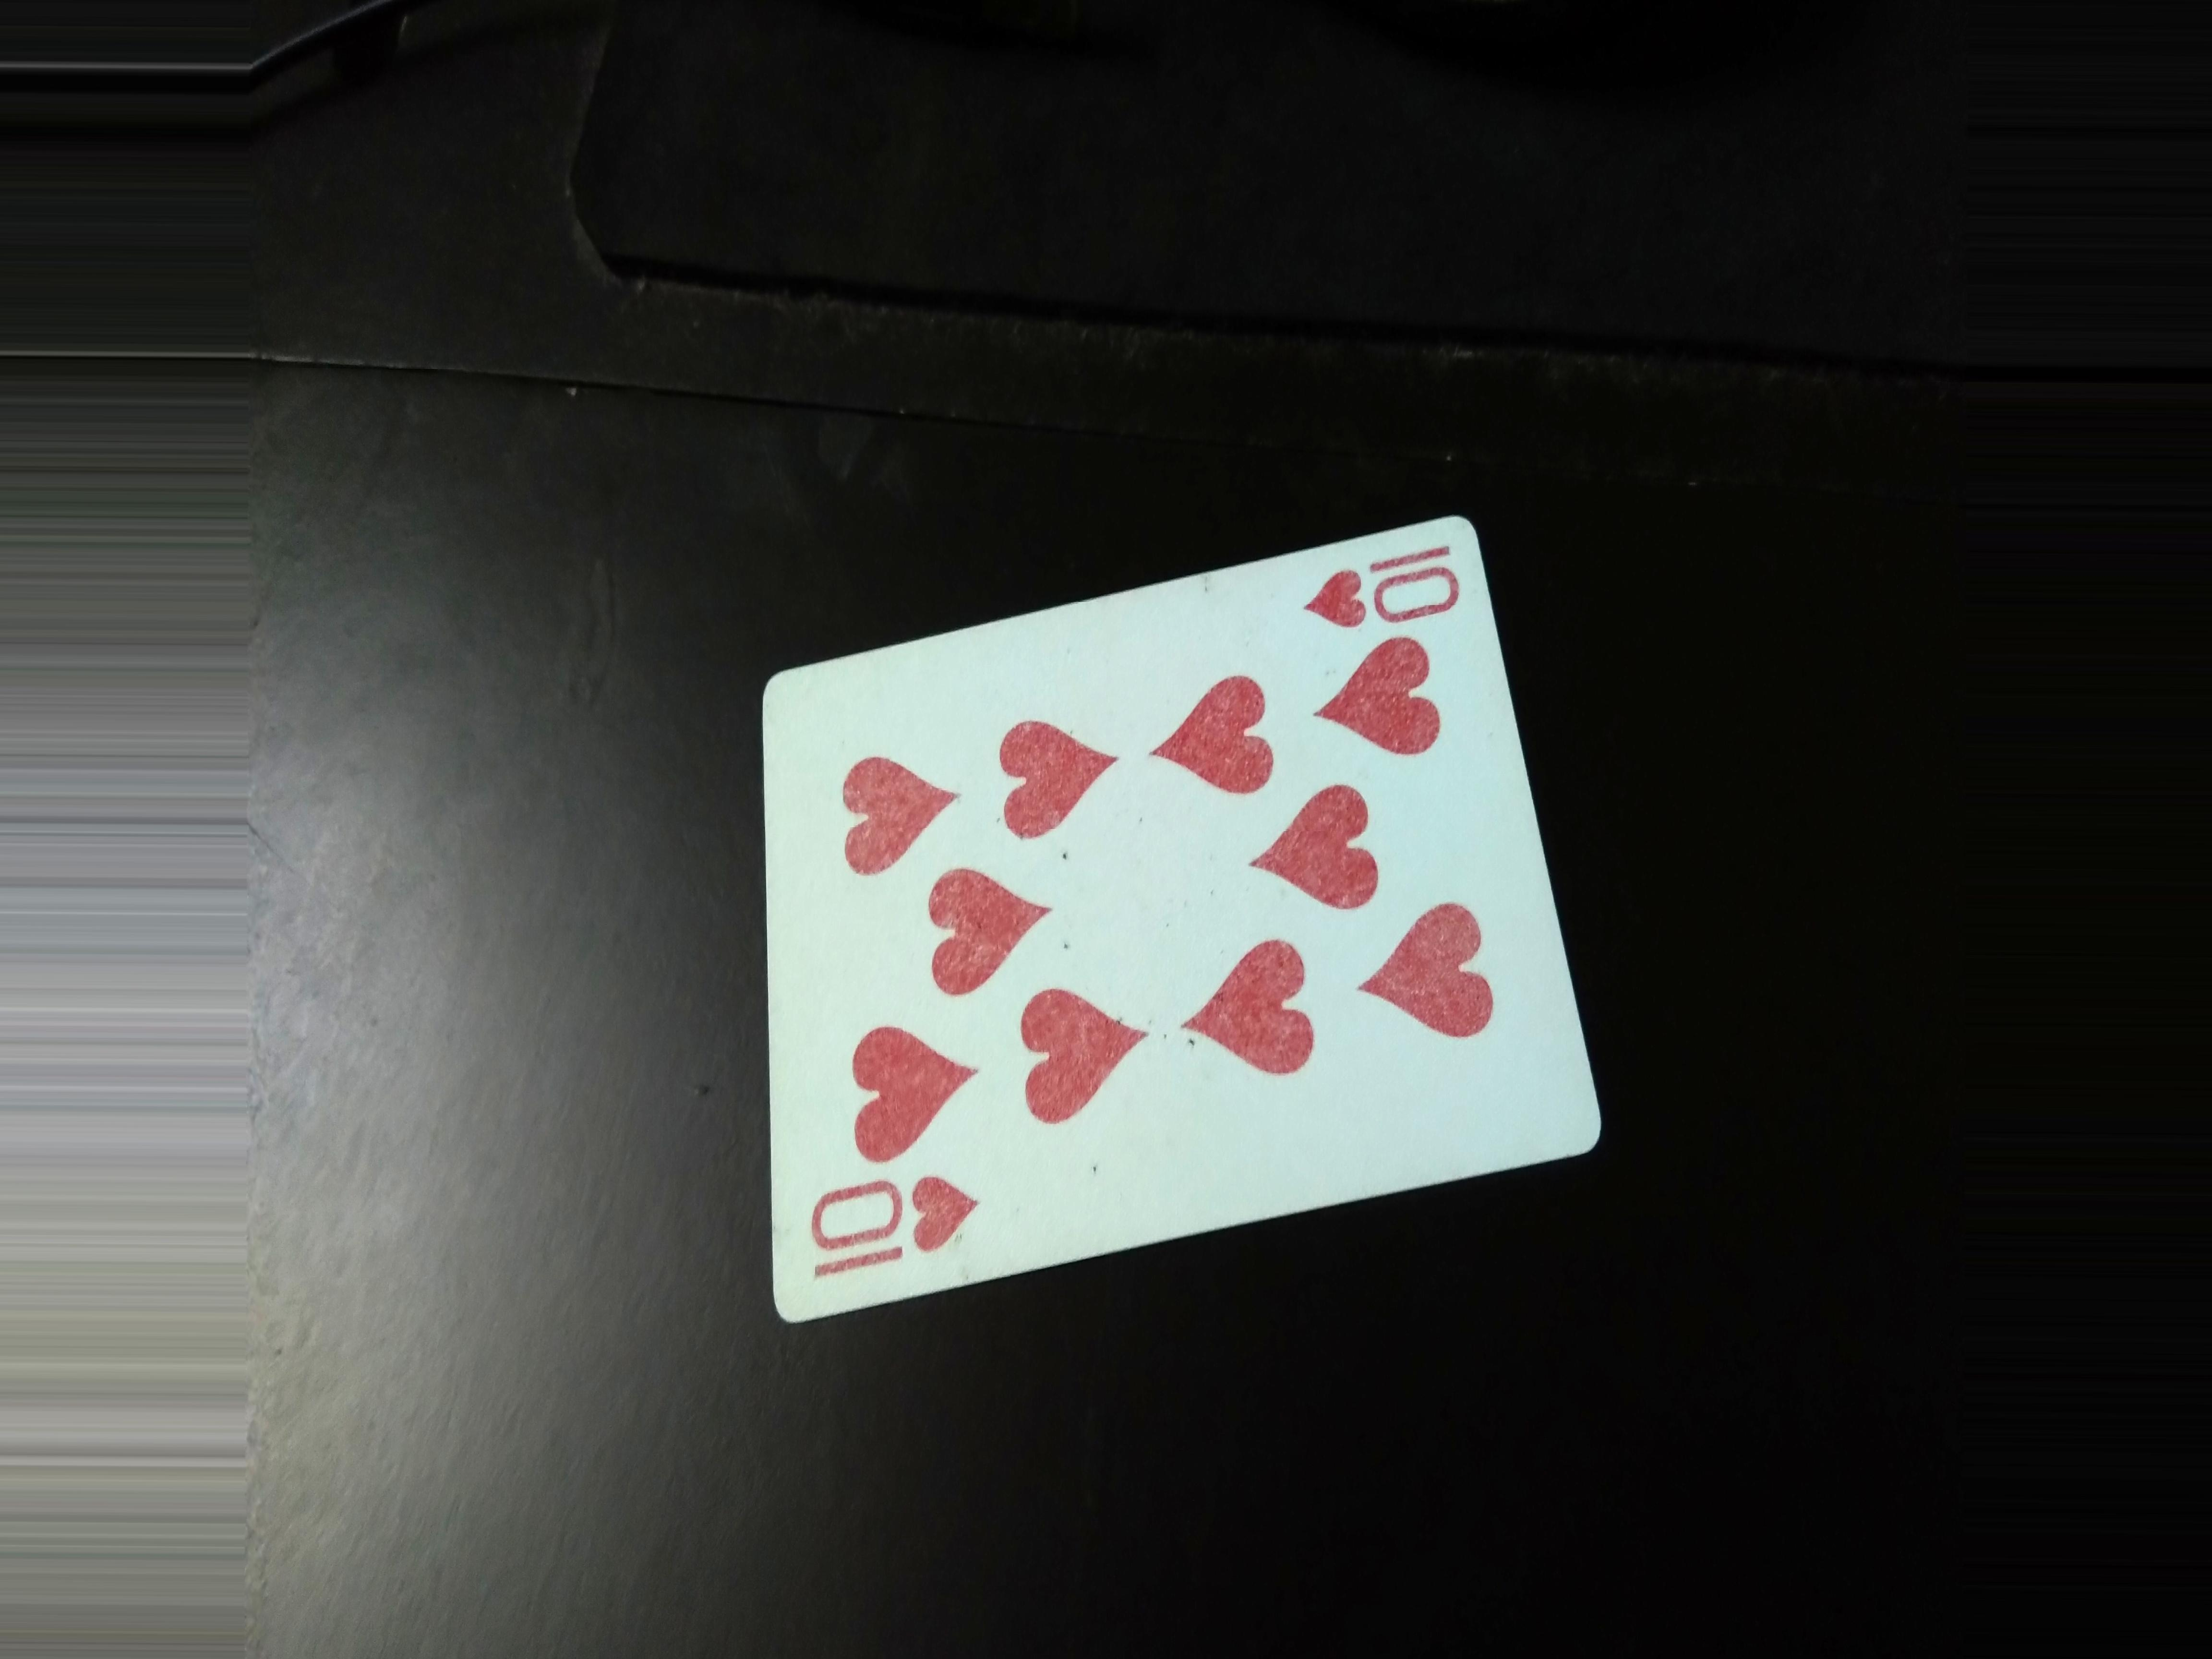10H: (777, 1169, 1021, 1267)
